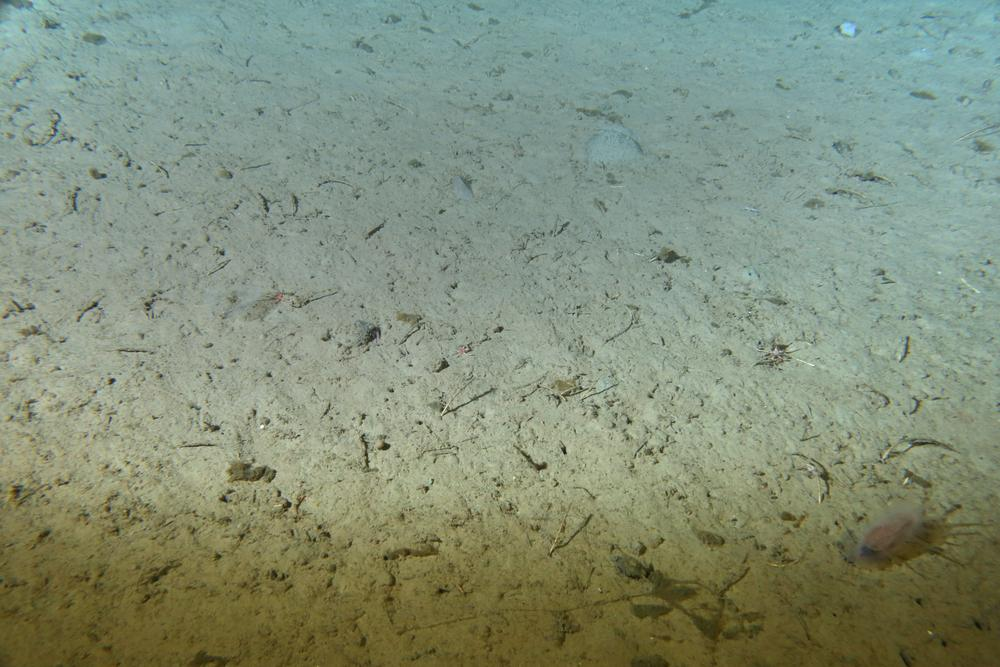Peniagone vitrea: (841, 494, 982, 579)
